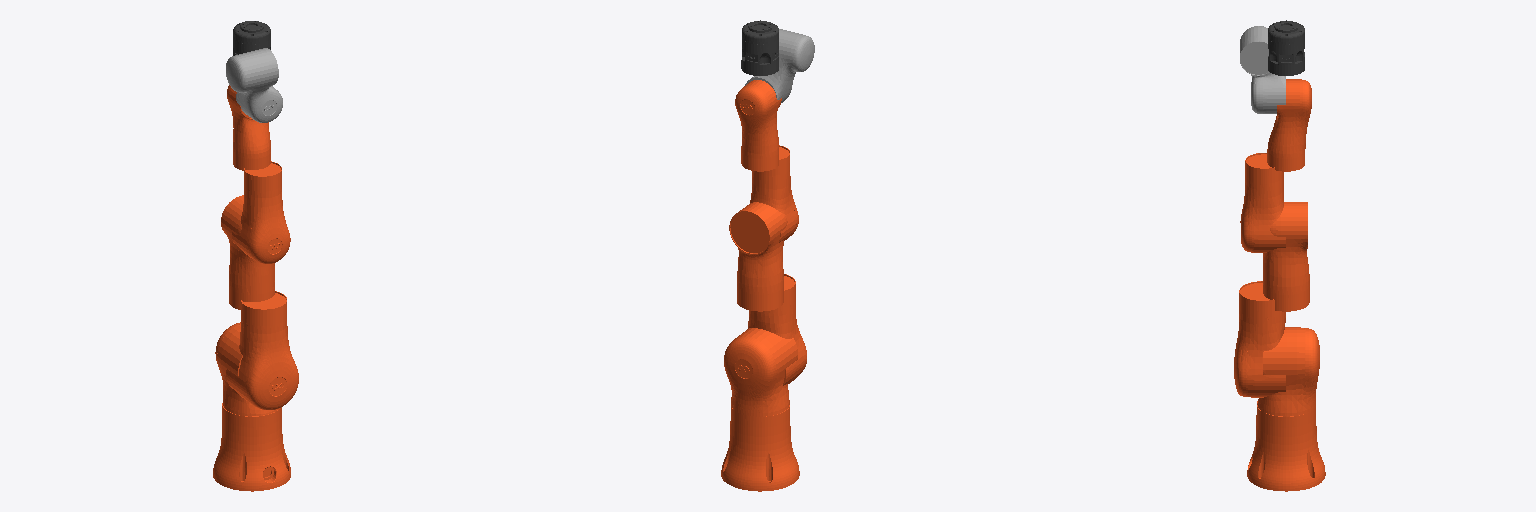
robot.urdf — kuka_lwr:
<?xml version="1.0" ?>
<!-- =================================================================================== -->
<!-- |    This document was autogenerated by xacro from src/lwr_description/robots/kuka_lwr.urdf.xacro | -->
<!-- |    EDITING THIS FILE BY HAND IS NOT RECOMMENDED                                 | -->
<!-- =================================================================================== -->
<robot name="kuka_lwr"
  xmlns:controller="http://playerstage.sourceforge.net/gazebo/xmlschema/#controller">
  <material name="color_j0">
    <color rgba="1.0 0.4235294117647059 0.19607843137254902 1.0"/>
  </material>
  <material name="color_j1">
    <color rgba="1.0 0.4235294117647059 0.19607843137254902 1.0"/>
  </material>
  <material name="color_j2">
    <color rgba="1.0 0.4235294117647059 0.19607843137254902 1.0"/>
  </material>
  <material name="color_j3">
    <color rgba="1.0 0.4235294117647059 0.19607843137254902 1.0"/>
  </material>
  <material name="color_j4">
    <color rgba="1.0 0.4235294117647059 0.19607843137254902 1.0"/>
  </material>
  <material name="color_j5">
    <color rgba="1.0 0.4235294117647059 0.19607843137254902 1.0"/>
  </material>
  <material name="color_j6">
    <color rgba="0.7 0.7 0.7 1.0"/>
  </material>
  <material name="color_j7">
    <color rgba="0.3 0.3 0.3 1.0"/>
  </material>
  <link name="link_0">
    <inertial>
      <origin rpy="0 0 0" xyz="-0.000638499331014356 5.02538509694617E-06 0.0482289968116927"/>
      <mass value="1.21032454350876"/>
      <inertia ixx="0.0262560565710656" ixy="-5.2754950052563E-07" ixz="3.77940202490646E-05" iyy="0.0280724642508563" iyz="-2.56972470148208E-07" izz="0.0306998250407766"/>
    </inertial>
    <visual>
      <origin rpy="0 0 3.141592653589793" xyz="0 0 0"/>
      <geometry>
        <mesh filename="meshes/lwr/link0.stl"/>
      </geometry>
      <material name="color_j0"/>
    </visual>
    <collision>
      <origin rpy="0 0 3.141592653589793" xyz="0 0 0"/>
      <geometry>
        <mesh filename="meshes/lwr/link0_c2.stl"/>
      </geometry>
    </collision>
  </link>
  <!-- joint between lwr_0_link and lwr_1_link -->
  <joint name="joint_0" type="revolute">
    <parent link="link_0"/>
    <child link="link_1"/>
    <limit effort="176.0" lower="-2.9670597283903604" upper="2.9670597283903604" velocity="1.9634954084936207"/>
    <dynamics damping="0.2" friction="1.0"/>
    <origin rpy="0 0 0" xyz="0 0 0.102"/>
    <axis xyz="0 0 1"/>
  </joint>
  <link name="link_1">
    <inertial>
      <origin rpy="0 0 0" xyz="-6.33965437334127E-08 0.0233273473346096 0.118146290406178"/>
      <mass value="2.30339938771869"/>
      <inertia ixx="0.156081163626041" ixy="5.97319920503909E-08" ixz="-1.64780770629425E-07" iyy="0.153467542173805" iyz="0.0319168949093809" izz="0.0440736079943446"/>
    </inertial>
    <visual>
      <origin rpy="0 0 3.141592653589793" xyz="0 0 0"/>
      <geometry>
        <mesh filename="meshes/lwr/link1.stl"/>
      </geometry>
      <material name="color_j1"/>
    </visual>
    <collision>
      <origin rpy="0 0 3.141592653589793" xyz="0 0 0"/>
      <geometry>
        <mesh filename="meshes/lwr/link1_c2.stl"/>
      </geometry>
    </collision>
  </link>
  <!-- joint between lwr_1_link and lwr_2_link -->
  <joint name="joint_1" type="revolute">
    <parent link="link_1"/>
    <child link="link_2"/>
    <limit effort="176.0" lower="-2.0943951023931953" upper="2.0943951023931953" velocity="1.9634954084936207"/>
    <dynamics damping="0.18000000000000002" friction="1.0"/>
    <origin rpy="0 0 0" xyz="0 0.0 0.2085"/>
    <axis xyz="0 -1 0"/>
  </joint>
  <link name="link_2">
    <inertial>
      <origin rpy="0 0 0" xyz="1.26774962153076E-06 -0.032746486541291 0.0736556727355962"/>
      <mass value="2.30343543179071"/>
      <inertia ixx="0.0142348526057094" ixy="-3.73763310100809E-08" ixz="1.70703603169075E-07" iyy="0.0141319978448755" iyz="0.00228090337255746" izz="0.00424792208583136"/>
    </inertial>
    <visual>
      <origin rpy="0 0 3.141592653589793" xyz="0 0 0"/>
      <geometry>
        <mesh filename="meshes/lwr/link2.stl"/>
      </geometry>
      <material name="color_j2"/>
    </visual>
    <collision>
      <origin rpy="0 0 3.141592653589793" xyz="0 0 0"/>
      <geometry>
        <mesh filename="meshes/lwr/link2_c2.stl"/>
      </geometry>
    </collision>
  </link>
  <!-- joint between lwr_2_link and lwr_3_link -->
  <joint name="joint_2" type="revolute">
    <parent link="link_2"/>
    <child link="link_3"/>
    <limit effort="100.0" lower="-2.9670597283903604" upper="2.9670597283903604" velocity="1.9634954084936207"/>
    <dynamics damping="0.1" friction="1.0"/>
    <origin rpy="0 0 0" xyz="0 0 0.1915"/>
    <axis xyz="0 0 1"/>
  </joint>
  <link name="link_3">
    <inertial>
      <origin rpy="0 0 0" xyz="-1.40921289121243E-06 -0.0233297626126898 0.11815047247629"/>
      <mass value="2.30342143971329"/>
      <inertia ixx="0.0156098024078732" ixy="4.75479645197283E-08" ixz="1.17852233217589E-07" iyy="0.0153476851366831" iyz="-0.00319215869825882" izz="0.0044071430916942"/>
    </inertial>
    <visual>
      <origin rpy="0 0 3.141592653589793" xyz="0 0 0"/>
      <geometry>
        <mesh filename="meshes/lwr/link3.stl"/>
      </geometry>
      <material name="color_j3"/>
    </visual>
    <collision>
      <origin rpy="0 0 3.141592653589793" xyz="0 0 0"/>
      <geometry>
        <mesh filename="meshes/lwr/link3_c2.stl"/>
      </geometry>
    </collision>
  </link>
  <!-- joint between lwr_3_link and lwr_4_link -->
  <joint name="joint_3" type="revolute">
    <parent link="link_3"/>
    <child link="link_4"/>
    <limit effort="100.0" lower="-2.0943951023931953" upper="2.0943951023931953" velocity="1.9634954084936207"/>
    <dynamics damping="0.15000000000000002" friction="1.0"/>
    <origin rpy="0 0 0" xyz="0 0 0.2085"/>
    <axis xyz="0 1 0"/>
  </joint>
  <link name="link_4">
    <inertial>
      <origin rpy="0 0 0" xyz="1.12239473548659E-07 0.0327442387470235 0.073658815701594"/>
      <mass value="2.30343586527606"/>
      <inertia ixx="0.0142336552604204" ixy="-5.89296043886227E-08" ixz="-1.568273589226E-07" iyy="0.0141315528954361" iyz="-0.00228056254422505" izz="0.00424816761410708"/>
    </inertial>
    <visual>
      <origin rpy="0 0 3.141592653589793" xyz="0 0 0"/>
      <geometry>
        <mesh filename="meshes/lwr/link4.stl"/>
      </geometry>
      <material name="color_j4"/>
    </visual>
    <collision>
      <origin rpy="0 0 3.141592653589793" xyz="0 0 0"/>
      <geometry>
        <mesh filename="meshes/lwr/link4_c2.stl"/>
      </geometry>
    </collision>
  </link>
  <!-- joint between lwr_4_link and lwr_5_link -->
  <joint name="joint_4" type="revolute">
    <parent link="link_4"/>
    <child link="link_5"/>
    <limit effort="100.0" lower="-2.9670597283903604" upper="2.9670597283903604" velocity="3.141592653589793"/>
    <dynamics damping="0.12" friction="0.4"/>
    <origin rpy="0 0 0" xyz="0 0.0 0.1915"/>
    <axis xyz="0 0 1"/>
  </joint>
  <link name="link_5">
    <inertial>
      <origin rpy="0 0 0" xyz="-6.00824789920296E-07 0.0207751869661564 0.0862053948486382"/>
      <mass value="1.60059828363332"/>
      <inertia ixx="0.00880806620496216" ixy="1.22820321842462E-07" ixz="-5.66844221164893E-08" iyy="0.00813520145401624" iyz="0.00261443543508601" izz="0.00359712267754715"/>
    </inertial>
    <visual>
      <origin rpy="0 0 3.141592653589793" xyz="0 0 0"/>
      <geometry>
        <mesh filename="meshes/lwr/link5.stl"/>
      </geometry>
      <material name="color_j5"/>
    </visual>
    <collision>
      <origin rpy="0 0 3.141592653589793" xyz="0 0 0"/>
      <geometry>
        <mesh filename="meshes/lwr/link5_c2.stl"/>
      </geometry>
    </collision>
  </link>
  <!-- joint between lwr_5_link and lwr_6_link -->
  <joint name="joint_5" type="revolute">
    <parent link="link_5"/>
    <child link="link_6"/>
    <limit effort="30.0" lower="-2.0943951023931953" upper="2.0943951023931953" velocity="1.9634954084936207"/>
    <dynamics damping="0.1" friction="0.1"/>
    <origin rpy="0 0 0" xyz="0 0 0.1985"/>
    <axis xyz="0 -1 0"/>
  </joint>
  <link name="link_6">
    <inertial>
      <origin rpy="0 0 0" xyz="-2.64519244286276E-08 -0.00451753627467652 -0.00295324741635017"/>
      <mass value="1.49302436988808"/>
      <inertia ixx="0.0298541138330797" ixy="-3.97658663154265E-09" ixz="-1.71667243685877E-09" iyy="0.0299834927882566" iyz="-2.53647350791604E-05" izz="0.0323627047307316"/>
    </inertial>
    <visual>
      <origin rpy="0 0 3.141592653589793" xyz="0 0 0"/>
      <geometry>
        <mesh filename="meshes/lwr/link6.stl"/>
      </geometry>
      <material name="color_j6"/>
    </visual>
    <collision>
      <origin rpy="0 0 3.141592653589793" xyz="0 0 0"/>
      <geometry>
        <mesh filename="meshes/lwr/link6_c2.stl"/>
      </geometry>
    </collision>
  </link>
  <!-- joint between lwr_6_link and lwr_7_link -->
  <joint name="joint_6" type="revolute">
    <parent link="link_6"/>
    <child link="link_7"/>
    <limit effort="30.0" lower="-2.9670597283903604" upper="2.9670597283903604" velocity="1.9634954084936207"/>
    <dynamics damping="0.1" friction="0.1"/>
    <origin rpy="0 0 0" xyz="0 0 0.078"/>
    <axis xyz="0 0 1"/>
  </joint>
  <link name="link_7">
    <inertial>
      <origin rpy="0 0 0" xyz="2.77555756156289E-17 1.11022302462516E-16 -0.015814675599801"/>
      <mass value="0.108688241139613"/>
      <inertia ixx="4.17908737998876E-02" ixy="0" ixz="0" iyy="4.17908737998876E-02" iyz="0" izz="7.00756879151782E-02"/>
    </inertial>
    <visual>
      <origin rpy="0 0 3.141592653589793" xyz="0 0 0"/>
      <geometry>
        <mesh filename="meshes/lwr/link7.stl"/>
      </geometry>
      <material name="color_j7"/>
    </visual>
    <collision>
      <origin rpy="0 0 3.141592653589793" xyz="0 0 0"/>
      <geometry>
        <mesh filename="meshes/lwr/link7_c2.stl"/>
      </geometry>
    </collision>
  </link>
  <!-- The state publisher is done by the RTTStatePublisher() as on the real HW -->
  <!--gazebo>
        <plugin name="gz_state_pub" filename="libgazebo_ros_joint_state_publisher.so">
        <jointName>joint_0,joint_1,joint_2,joint_3,joint_4,joint_5,joint_6</jointName>
        <updateRate>100</updateRate>
        <alwaysOn>true</alwaysOn>
    </plugin>
</gazebo-->
  <gazebo reference="base_link">
    <material>Gazebo/Grey</material>
  </gazebo>
  <gazebo reference="joint_0">
    <provideFeedback>true</provideFeedback>
    <!-- Dangerous option :) -->
    <!--implicitSpringDamper>true</implicitSpringDamper-->
    <!--stopCfm>0.9</stopCfm-->
    <!--stopErp>0.5</stopErp-->
  </gazebo>
  <gazebo reference="joint_1">
    <provideFeedback>true</provideFeedback>
    <!-- Dangerous option :) -->
    <!--implicitSpringDamper>true</implicitSpringDamper-->
    <!--stopCfm>0.9</stopCfm-->
    <!--stopErp>0.5</stopErp-->
  </gazebo>
  <gazebo reference="joint_2">
    <provideFeedback>true</provideFeedback>
    <!-- Dangerous option :) -->
    <!--implicitSpringDamper>true</implicitSpringDamper-->
    <!--stopCfm>0.9</stopCfm-->
    <!--stopErp>0.5</stopErp-->
  </gazebo>
  <gazebo reference="joint_3">
    <provideFeedback>true</provideFeedback>
    <!-- Dangerous option :) -->
    <!--implicitSpringDamper>true</implicitSpringDamper-->
    <!--stopCfm>0.9</stopCfm-->
    <!--stopErp>0.5</stopErp-->
  </gazebo>
  <gazebo reference="joint_4">
    <provideFeedback>true</provideFeedback>
    <!-- Dangerous option :) -->
    <!--implicitSpringDamper>true</implicitSpringDamper-->
    <!--stopCfm>0.9</stopCfm-->
    <!--stopErp>0.5</stopErp-->
  </gazebo>
  <gazebo reference="joint_5">
    <provideFeedback>true</provideFeedback>
    <!-- Dangerous option :) -->
    <!--implicitSpringDamper>true</implicitSpringDamper-->
    <!--stopCfm>0.9</stopCfm-->
    <!--stopErp>0.5</stopErp-->
  </gazebo>
  <gazebo reference="joint_6">
    <provideFeedback>true</provideFeedback>
    <!-- Dangerous option :) -->
    <!--implicitSpringDamper>true</implicitSpringDamper-->
    <!--stopCfm>0.9</stopCfm-->
    <!--stopErp>0.5</stopErp-->
  </gazebo>
  <gazebo reference="table_link">
    <self_collide>true</self_collide>
  </gazebo>
  <!-- <xacro:enable_self_collision link_name="screwdriver_link"/>
<xacro:enable_self_collision link_name="ati_link"/>
<xacro:enable_self_collision link_name="link_7"/>
<xacro:enable_self_collision link_name="head_cam_link"/>
<xacro:enable_self_collision link_name="handle_link"/> -->
  <!-- If you want to add a Joint Torque sensor at each Joint -->
  <!--xacro:gz_ft_sensor joint_name="joint_0"/-->
  <!--xacro:gz_ft_sensor joint_name="joint_1"/-->
  <!--xacro:gz_ft_sensor joint_name="joint_2"/-->
  <!--xacro:gz_ft_sensor joint_name="joint_3"/-->
  <!--xacro:gz_ft_sensor joint_name="joint_4"/-->
  <!--xacro:gz_ft_sensor joint_name="joint_5"/-->
  <!--xacro:gz_ft_sensor joint_name="joint_6"/-->
  <gazebo reference="link_1">
    <material>Gazebo/Orange</material>
  </gazebo>
  <gazebo reference="link_2">
    <material>Gazebo/Orange</material>
  </gazebo>
  <gazebo reference="link_3">
    <material>Gazebo/Orange</material>
  </gazebo>
  <gazebo reference="link_4">
    <material>Gazebo/Orange</material>
  </gazebo>
  <gazebo reference="link_5">
    <material>Gazebo/Orange</material>
  </gazebo>
  <gazebo reference="link_6">
    <material>Gazebo/Grey</material>
  </gazebo>
  <gazebo reference="link_7">
    <material>Gazebo/DarkGrey</material>
  </gazebo>
  <transmission name="trans_0">
    <type>transmission_interface/SimpleTransmission</type>
    <joint name="joint_0">
      <hardwareInterface>EffortJointInterface</hardwareInterface>
      <hardwareInterface>PositionJointInterface</hardwareInterface>
    </joint>
    <actuator name="motor_0">
      <hardwareInterface>EffortJointInterface</hardwareInterface>
      <hardwareInterface>PositionJointInterface</hardwareInterface>
      <mechanicalReduction>1</mechanicalReduction>
    </actuator>
  </transmission>
  <transmission name="trans_1">
    <type>transmission_interface/SimpleTransmission</type>
    <joint name="joint_1">
      <hardwareInterface>EffortJointInterface</hardwareInterface>
      <hardwareInterface>PositionJointInterface</hardwareInterface>
    </joint>
    <actuator name="motor_1">
      <hardwareInterface>EffortJointInterface</hardwareInterface>
      <hardwareInterface>PositionJointInterface</hardwareInterface>
      <mechanicalReduction>1</mechanicalReduction>
    </actuator>
  </transmission>
  <transmission name="trans_2">
    <type>transmission_interface/SimpleTransmission</type>
    <joint name="joint_2">
      <hardwareInterface>EffortJointInterface</hardwareInterface>
      <hardwareInterface>PositionJointInterface</hardwareInterface>
    </joint>
    <actuator name="motor_2">
      <hardwareInterface>EffortJointInterface</hardwareInterface>
      <hardwareInterface>PositionJointInterface</hardwareInterface>
      <mechanicalReduction>1</mechanicalReduction>
    </actuator>
  </transmission>
  <transmission name="trans_3">
    <type>transmission_interface/SimpleTransmission</type>
    <joint name="joint_3">
      <hardwareInterface>EffortJointInterface</hardwareInterface>
      <hardwareInterface>PositionJointInterface</hardwareInterface>
    </joint>
    <actuator name="motor_3">
      <hardwareInterface>EffortJointInterface</hardwareInterface>
      <hardwareInterface>PositionJointInterface</hardwareInterface>
      <mechanicalReduction>1</mechanicalReduction>
    </actuator>
  </transmission>
  <transmission name="trans_4">
    <type>transmission_interface/SimpleTransmission</type>
    <joint name="joint_4">
      <hardwareInterface>EffortJointInterface</hardwareInterface>
      <hardwareInterface>PositionJointInterface</hardwareInterface>
    </joint>
    <actuator name="motor_4">
      <hardwareInterface>EffortJointInterface</hardwareInterface>
      <hardwareInterface>PositionJointInterface</hardwareInterface>
      <mechanicalReduction>1</mechanicalReduction>
    </actuator>
  </transmission>
  <transmission name="trans_5">
    <type>transmission_interface/SimpleTransmission</type>
    <joint name="joint_5">
      <hardwareInterface>EffortJointInterface</hardwareInterface>
      <hardwareInterface>PositionJointInterface</hardwareInterface>
    </joint>
    <actuator name="motor_5">
      <hardwareInterface>EffortJointInterface</hardwareInterface>
      <hardwareInterface>PositionJointInterface</hardwareInterface>
      <mechanicalReduction>1</mechanicalReduction>
    </actuator>
  </transmission>
  <transmission name="trans_6">
    <type>transmission_interface/SimpleTransmission</type>
    <joint name="joint_6">
      <hardwareInterface>EffortJointInterface</hardwareInterface>
      <hardwareInterface>PositionJointInterface</hardwareInterface>
    </joint>
    <actuator name="motor_6">
      <hardwareInterface>EffortJointInterface</hardwareInterface>
      <hardwareInterface>PositionJointInterface</hardwareInterface>
      <mechanicalReduction>1</mechanicalReduction>
    </actuator>
  </transmission>
</robot>

--- What the picture shows (computed from the rendered views, not written in the file) ---
3 views of the same robot in one strip: view 1: azimuth 30°, elevation 25°; view 2: azimuth 150°, elevation 25°; view 3: azimuth 270°, elevation 25° (orthographic).
Model kuka_lwr with 8 links and 7 joints (7 revolute), rooted at link_0, posed all joints at 0.
Visible links, largest first — view 1: link_2, link_0, link_4, link_6, link_3, link_5, link_1, link_7; view 2: link_0, link_1, link_3, link_5, link_4, link_2, link_6, link_7; view 3: link_0, link_2, link_3, link_1, link_4, link_5, link_6, link_7.
Boxes of the visible links, x1,y1,x2,y2 form: link_2: [226, 291, 298, 409]; link_0: [213, 403, 290, 491]; link_4: [232, 161, 290, 263]; link_6: [226, 48, 282, 122]; link_3: [221, 195, 274, 309]; link_5: [227, 85, 270, 170]; link_1: [215, 322, 279, 416]; link_7: [233, 21, 270, 55]; link_0: [721, 405, 799, 491]; link_1: [724, 328, 797, 416]; link_3: [729, 202, 787, 311]; link_5: [735, 80, 781, 171]; link_4: [750, 145, 798, 242]; link_2: [748, 274, 806, 385]; link_6: [745, 29, 814, 102]; link_7: [741, 20, 778, 75]; link_0: [1247, 401, 1325, 491]; link_2: [1234, 281, 1285, 397]; link_3: [1263, 202, 1309, 311]; link_1: [1257, 327, 1319, 416]; link_4: [1240, 153, 1285, 252]; link_5: [1267, 79, 1311, 171]; link_6: [1240, 26, 1285, 113]; link_7: [1268, 20, 1304, 75].
Size in the robot's own frame: 0.2085 by 0.2398 by 1.3 metres.
Meshes: 8 distinct files referenced, 8 mesh visuals loaded (8 binary STL).